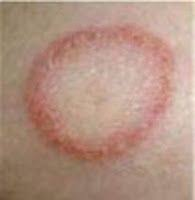tina: (33, 34, 175, 175)
